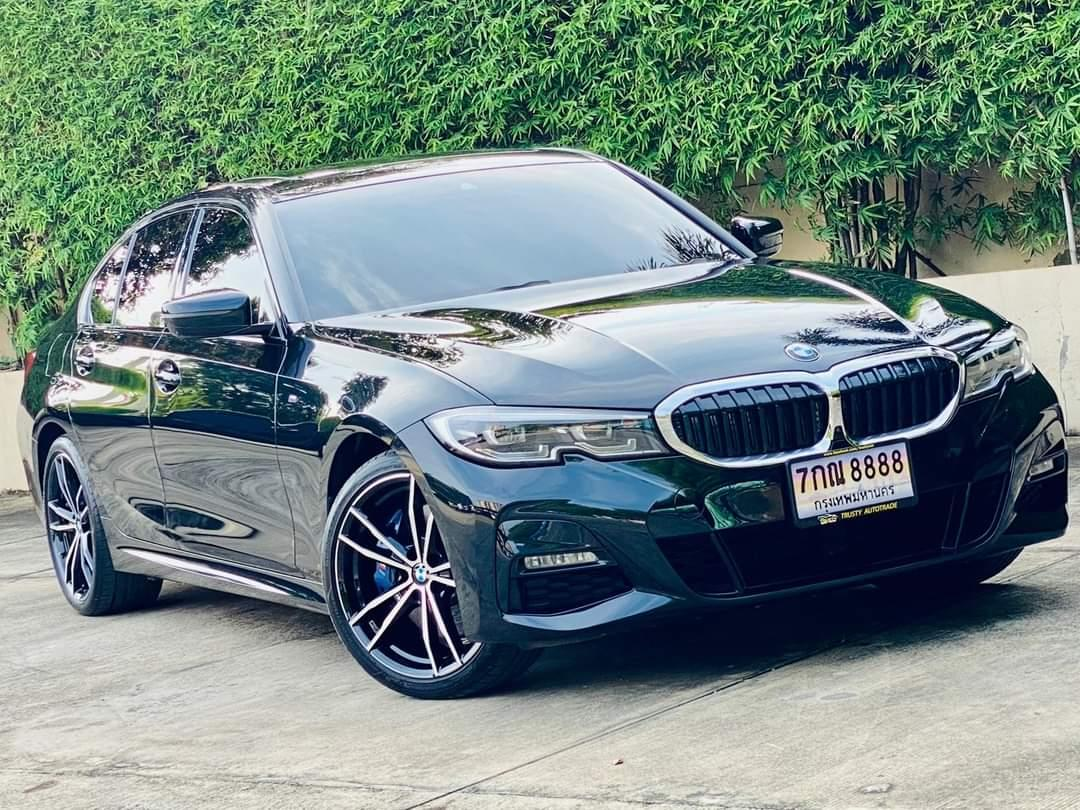license-plate: (787, 438, 919, 531)
